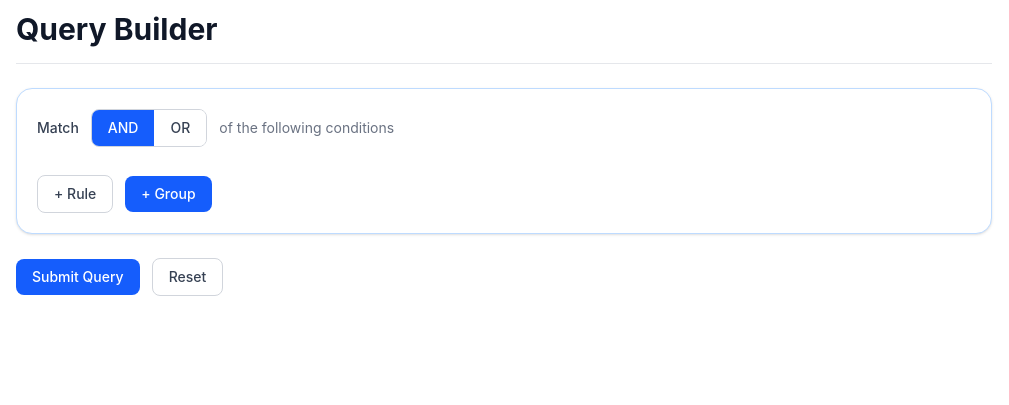
Scenario: QueryBuilder › removes a rule when clicking remove button
Click the button with test id "add-rule-depth-0": (75, 194) 37,175 -> 113,213
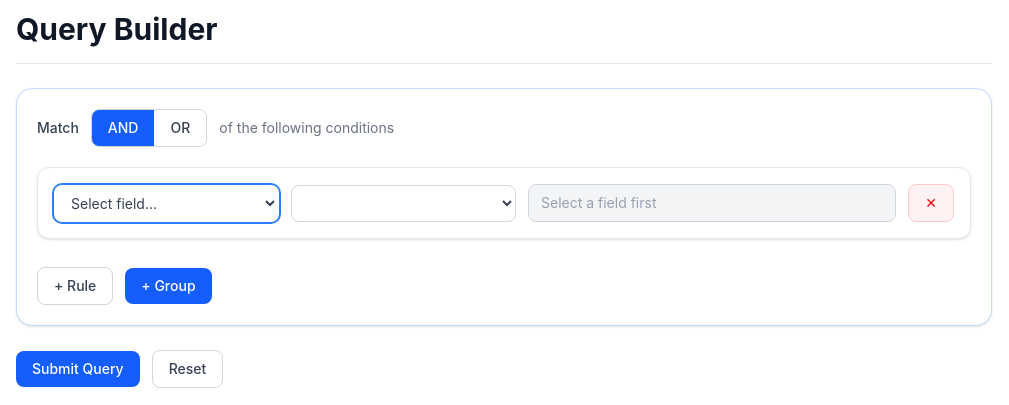
Now the element with test id "rule-depth-0-index-0" is shown, box 37,167 -> 971,239
Click the button with test id "remove-rule-depth-0-index-0": (931, 203) 908,184 -> 954,222
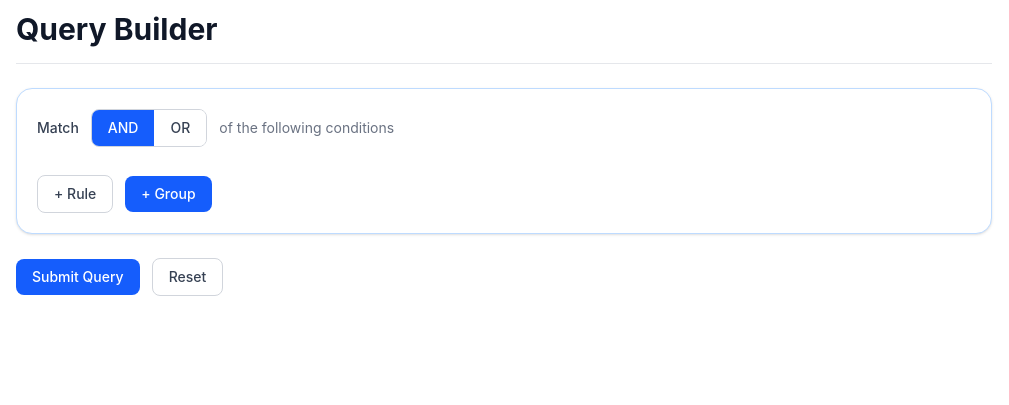
Now the element with test id "rule-depth-0-index-0" is gone
